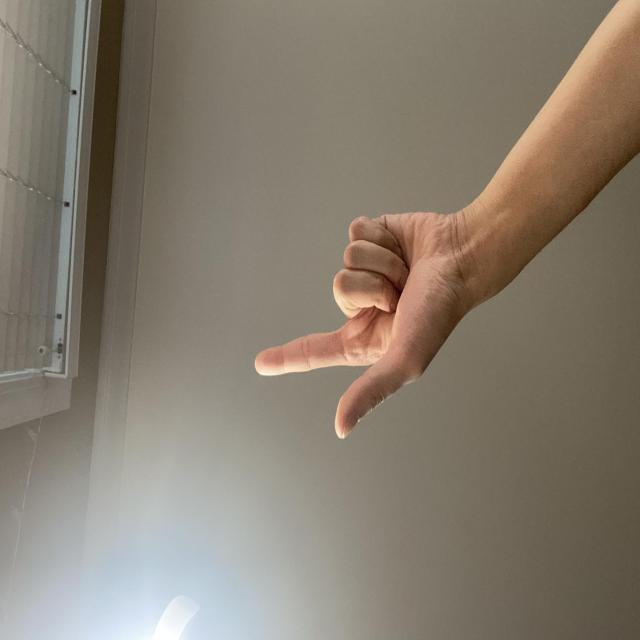L: (140, 330, 326, 640)
